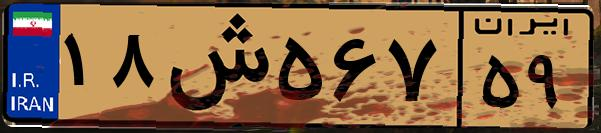1: (57, 26, 110, 100)
5: (270, 28, 330, 110), (475, 38, 525, 113)
6: (330, 28, 385, 110)
7: (385, 28, 445, 110)
8: (110, 28, 158, 98)
9: (525, 38, 570, 115)
ش: (158, 12, 270, 120)
